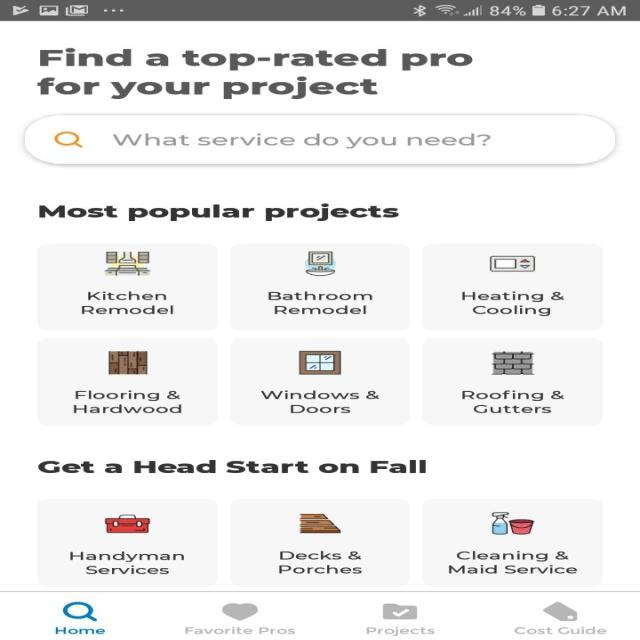EditText: (24, 114, 615, 164)
Icon: (62, 601, 98, 621), (541, 601, 577, 621), (221, 602, 258, 621), (382, 602, 417, 620), (54, 130, 84, 148)
Image: (103, 251, 151, 276), (298, 350, 342, 374), (490, 350, 534, 374), (490, 512, 534, 534), (108, 350, 148, 374), (104, 514, 150, 533), (298, 513, 340, 533), (489, 254, 535, 272), (304, 251, 337, 276)
Text: (36, 48, 473, 98), (38, 203, 399, 221), (113, 133, 491, 149), (37, 459, 426, 473), (447, 550, 577, 574), (260, 390, 378, 413), (69, 551, 184, 574), (462, 291, 564, 316), (72, 390, 182, 413), (268, 291, 372, 314), (462, 390, 564, 413), (80, 291, 174, 314), (278, 550, 362, 574), (185, 626, 295, 634), (365, 625, 435, 636), (512, 626, 606, 634), (55, 626, 106, 634)
